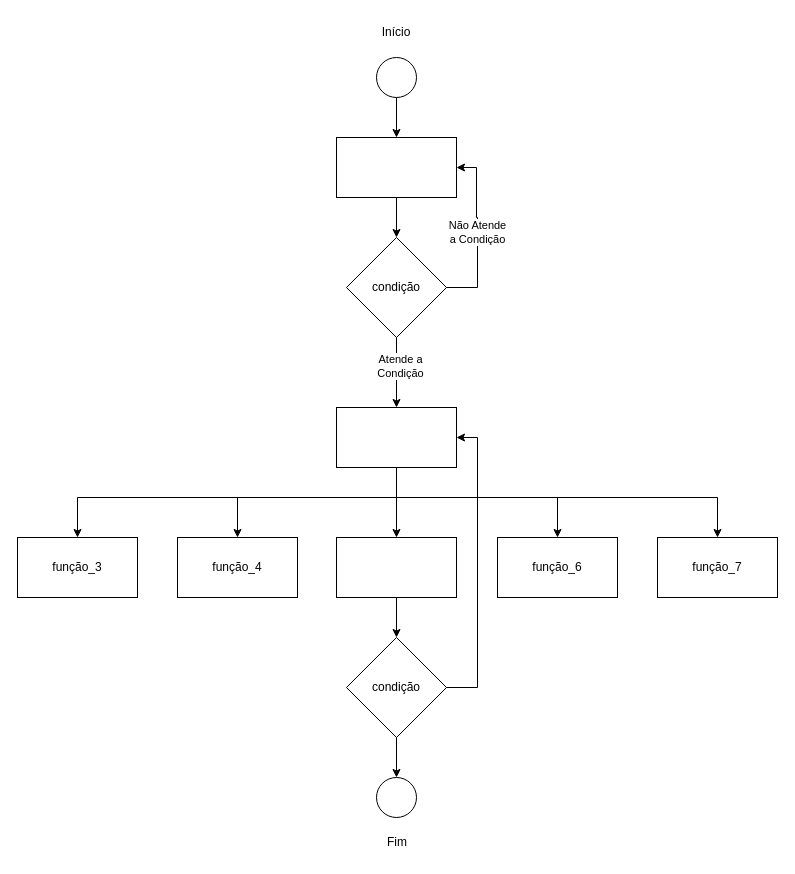
This 795x874 diagram has some shape labels left out. The shapes that lost their labels are listed below. From the top down, each one's centre as x and y in pixels, then its label:
At point 396,167: "função_1".
At point 396,437: "função_2".
At point 396,567: "função_5".
